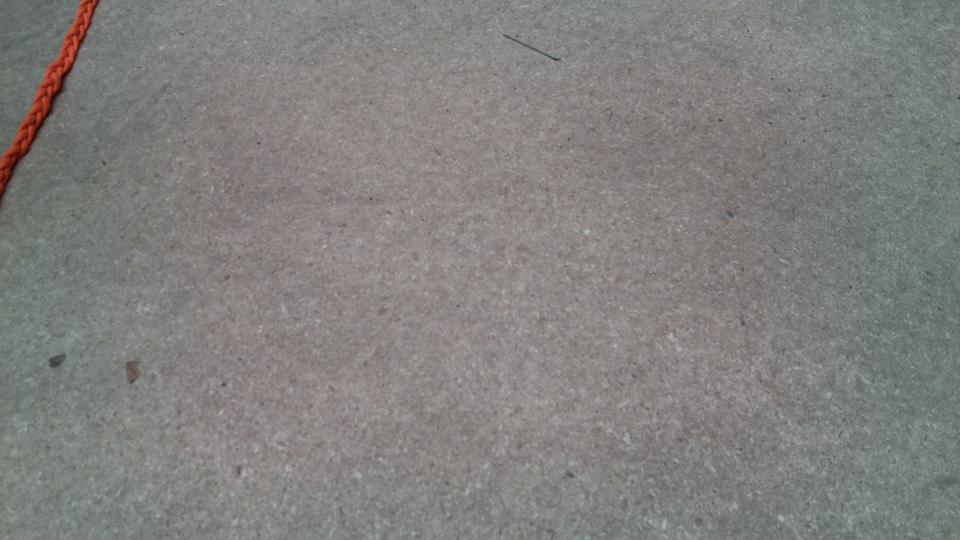rope: (1, 1, 88, 183)
